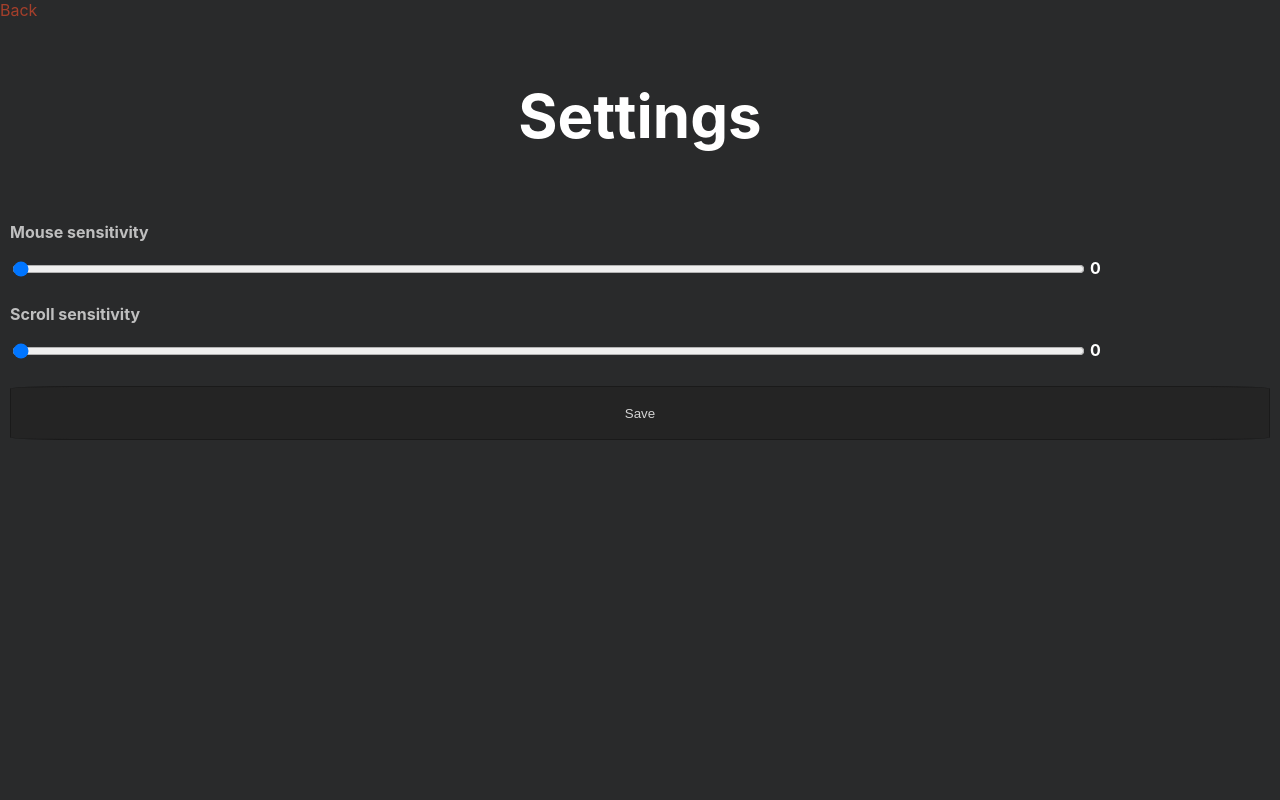
settings page › Mouse sensitivity slider › should not set the mouse value over max
Set the slider labelled "Mouse sensitivity 0" to "200" at (548, 269), box x1=12 y1=260 x2=1085 y2=278
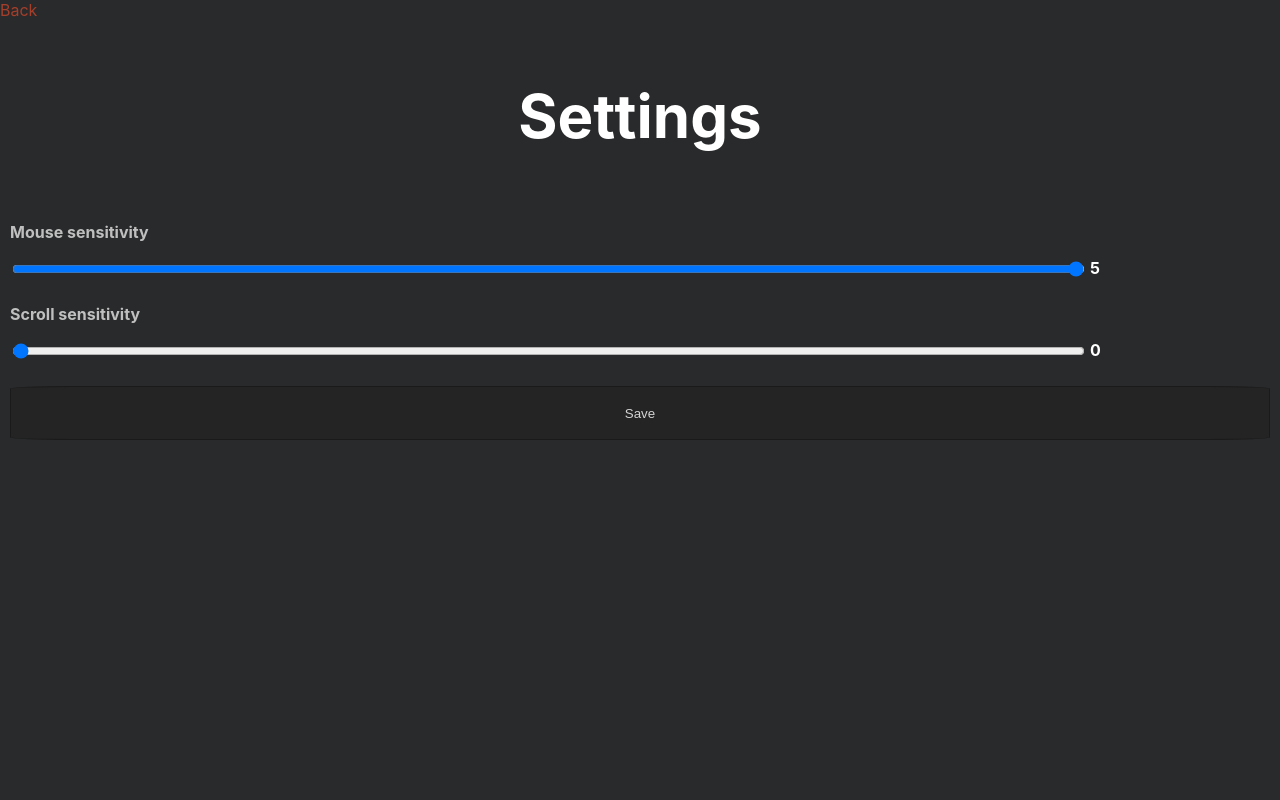
Expected: the slider labelled "Mouse sensitivity 5" holds "5", x1=12 y1=260 x2=1085 y2=278
